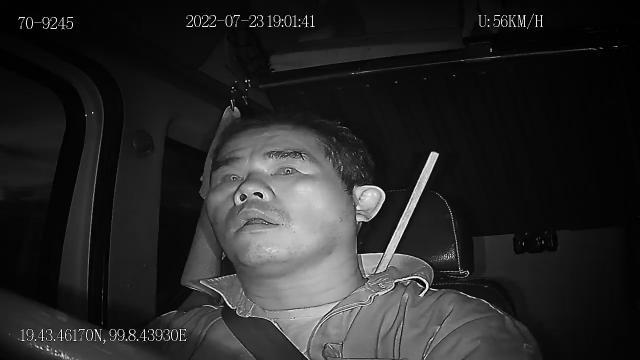SafeDriving: (266, 156, 309, 182), (214, 162, 248, 188)
Seatbelt: (220, 300, 310, 360)
